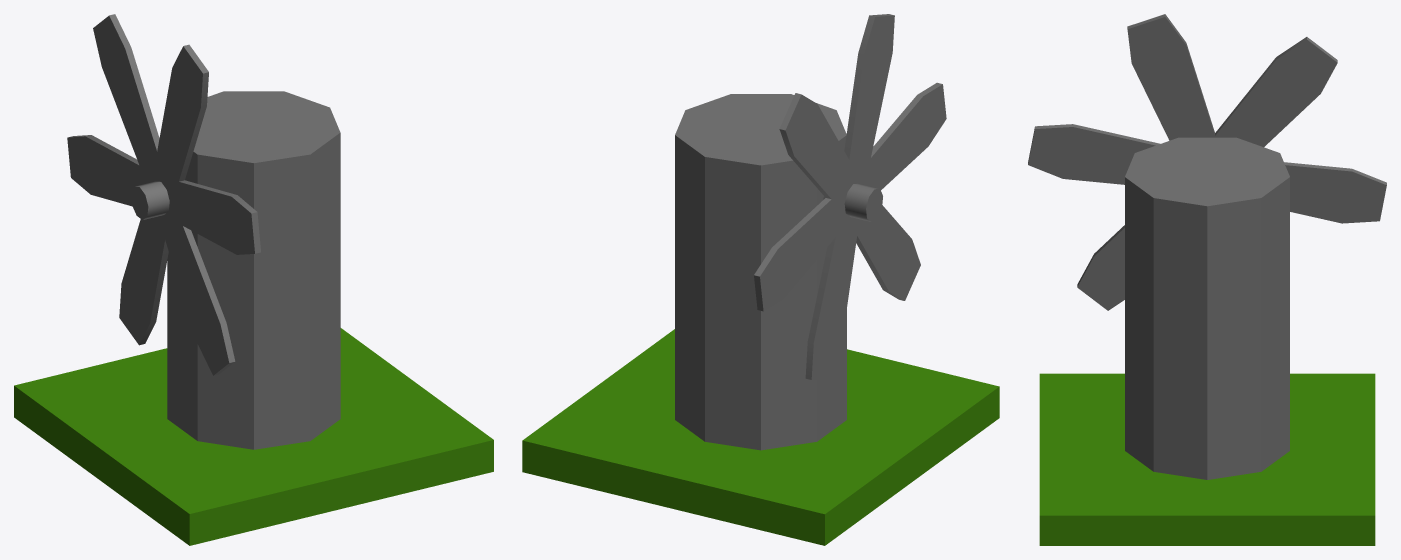
The model's file is Farm5.obj.
The picture shows the model from 3 angles, left to right: view 1: azimuth 30°, elevation 25°; view 2: azimuth 150°, elevation 25°; view 3: azimuth 270°, elevation 25°; orthographic projection. The views are drawn at different scales.
Visible parts, largest first — view 1: Tilebase113, Cylinder051, Box732, Box731, Box729, Box727, Box728, Box730, Cylinder050; view 2: Tilebase113, Cylinder051, Box728, Box731, Box732, Box730, Box727, Box729, Cylinder050; view 3: Cylinder051, Tilebase113, Box731, Box732, Box727, Box730, Box729.
Boxes of the visible parts, bbox=[...] form: Tilebase113: bbox=[14, 328, 493, 545]; Cylinder051: bbox=[167, 91, 340, 449]; Box732: bbox=[93, 14, 164, 183]; Box731: bbox=[153, 44, 208, 188]; Box729: bbox=[165, 200, 235, 375]; Box727: bbox=[165, 178, 260, 254]; Box728: bbox=[119, 214, 168, 345]; Box730: bbox=[67, 135, 154, 206]; Cylinder050: bbox=[131, 181, 169, 219]; Tilebase113: bbox=[522, 329, 999, 545]; Cylinder051: bbox=[675, 94, 846, 450]; Box728: bbox=[805, 209, 859, 379]; Box731: bbox=[844, 14, 894, 183]; Box732: bbox=[779, 93, 857, 209]; Box730: bbox=[754, 198, 848, 311]; Box727: bbox=[857, 82, 946, 189]; Box729: bbox=[856, 205, 920, 300]; Cylinder050: bbox=[823, 183, 882, 221]; Cylinder051: bbox=[1125, 137, 1289, 479]; Tilebase113: bbox=[1039, 373, 1375, 545]; Box731: bbox=[1127, 14, 1215, 140]; Box732: bbox=[1215, 37, 1337, 147]; Box727: bbox=[1028, 124, 1160, 184]; Box730: bbox=[1284, 162, 1386, 223]; Box729: bbox=[1077, 225, 1124, 310].
Bounding box in the file's own units: 10 × 13.73 × 10.69.
